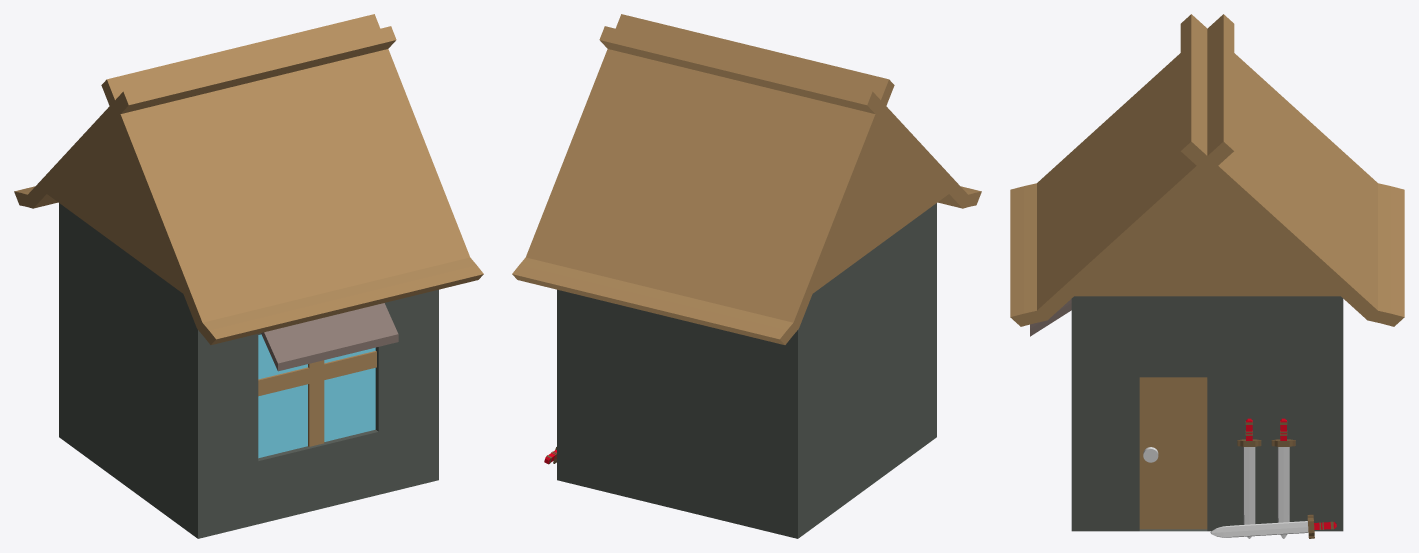
Rendered from casa vila cinza.fbx.
3 views of the same model, side by side, from view 1: azimuth 30°, elevation 25°; view 2: azimuth 150°, elevation 25°; view 3: azimuth 270°, elevation 25° (orthographic). The views are drawn at different scales.
Visible parts, largest first — view 1: Cube.001, Cube, Cube.002, Cube.005, Cube.003; view 2: Cube.001, Cube; view 3: Cube.001, Cube, Cube.004, Cube.009, Cube.007, Cube.008.
Part boxes in pixels (<box>): Cube.001: <box>14,14,483,344</box>; Cube: <box>59,203,438,538</box>; Cube.002: <box>258,334,375,458</box>; Cube.005: <box>261,303,398,371</box>; Cube.003: <box>258,351,376,446</box>; Cube.001: <box>512,14,981,344</box>; Cube: <box>557,203,936,538</box>; Cube.001: <box>1010,14,1404,326</box>; Cube: <box>1071,296,1343,531</box>; Cube.004: <box>1139,377,1207,529</box>; Cube.009: <box>1210,514,1336,538</box>; Cube.007: <box>1237,418,1261,538</box>; Cube.008: <box>1271,418,1295,538</box>.
Size of the model in its own units: 205 by 290 by 262.
